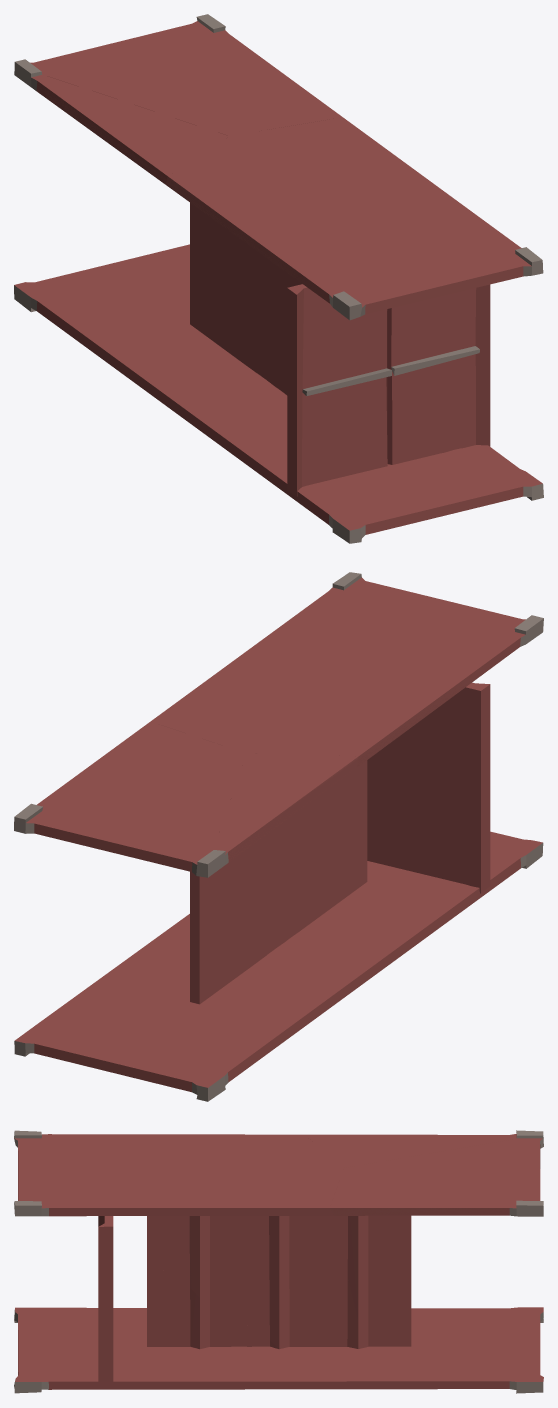
Rendered from Container.fbx.
3 views of the same model, one above another, from view 1: azimuth 30°, elevation 25°; view 2: azimuth 150°, elevation 25°; view 3: azimuth 270°, elevation 25° (orthographic). The views are drawn at different scales.
Visible parts, largest first — view 1: Foundation, DoorPanel, Roof, Roof_cell.002, Roof_cell, Roof_cell.001, Panel1_cell.002, Panel1_cell, Panel1; view 2: Foundation, Roof, Roof_cell, DoorPanel, Roof_cell.002, Panel1, Panel1_cell.002, DoorPanel.cell, Roof_cell.001, Panel1_cell, Panel1_cell.001; view 3: Foundation, Panel1, Roof, Roof_cell.002, Roof_cell, Panel1_cell.002, Panel1_cell.001, Roof_cell.001, DoorPanel, Panel1_cell.
Boxes of the visible parts, left/top/right/bottom form: Foundation: left=14, top=244, right=543, bottom=543; DoorPanel: left=287, top=284, right=490, bottom=496; Roof: left=14, top=14, right=543, bottom=320; Roof_cell.002: left=165, top=117, right=542, bottom=319; Roof_cell: left=14, top=14, right=341, bottom=135; Roof_cell.001: left=14, top=63, right=228, bottom=184; Panel1_cell.002: left=222, top=235, right=301, bottom=383; Panel1_cell: left=190, top=203, right=235, bottom=347; Panel1: left=190, top=207, right=287, bottom=395; Foundation: left=14, top=831, right=543, bottom=1101; Roof: left=16, top=572, right=543, bottom=877; Roof_cell: left=14, top=721, right=245, bottom=877; DoorPanel: left=367, top=682, right=490, bottom=893; Roof_cell.002: left=151, top=572, right=543, bottom=766; Panel1: left=190, top=760, right=367, bottom=1003; Panel1_cell.002: left=231, top=783, right=360, bottom=980; DoorPanel.cell: left=384, top=688, right=480, bottom=886; Roof_cell.001: left=205, top=753, right=358, bottom=877; Panel1_cell: left=190, top=853, right=244, bottom=1004; Panel1_cell.001: left=283, top=772, right=367, bottom=942; Foundation: left=14, top=1307, right=543, bottom=1393; Panel1: left=147, top=1215, right=411, bottom=1349; Roof: left=14, top=1130, right=543, bottom=1216; Roof_cell.002: left=14, top=1130, right=343, bottom=1216; Roof_cell: left=330, top=1137, right=543, bottom=1215; Panel1_cell.002: left=147, top=1216, right=358, bottom=1348; Panel1_cell.001: left=147, top=1260, right=278, bottom=1348; Roof_cell.001: left=304, top=1132, right=517, bottom=1167; DoorPanel: left=98, top=1216, right=113, bottom=1386; Panel1_cell: left=334, top=1215, right=411, bottom=1346.
Size of the model in its own units: 402 by 471 by 1204.
